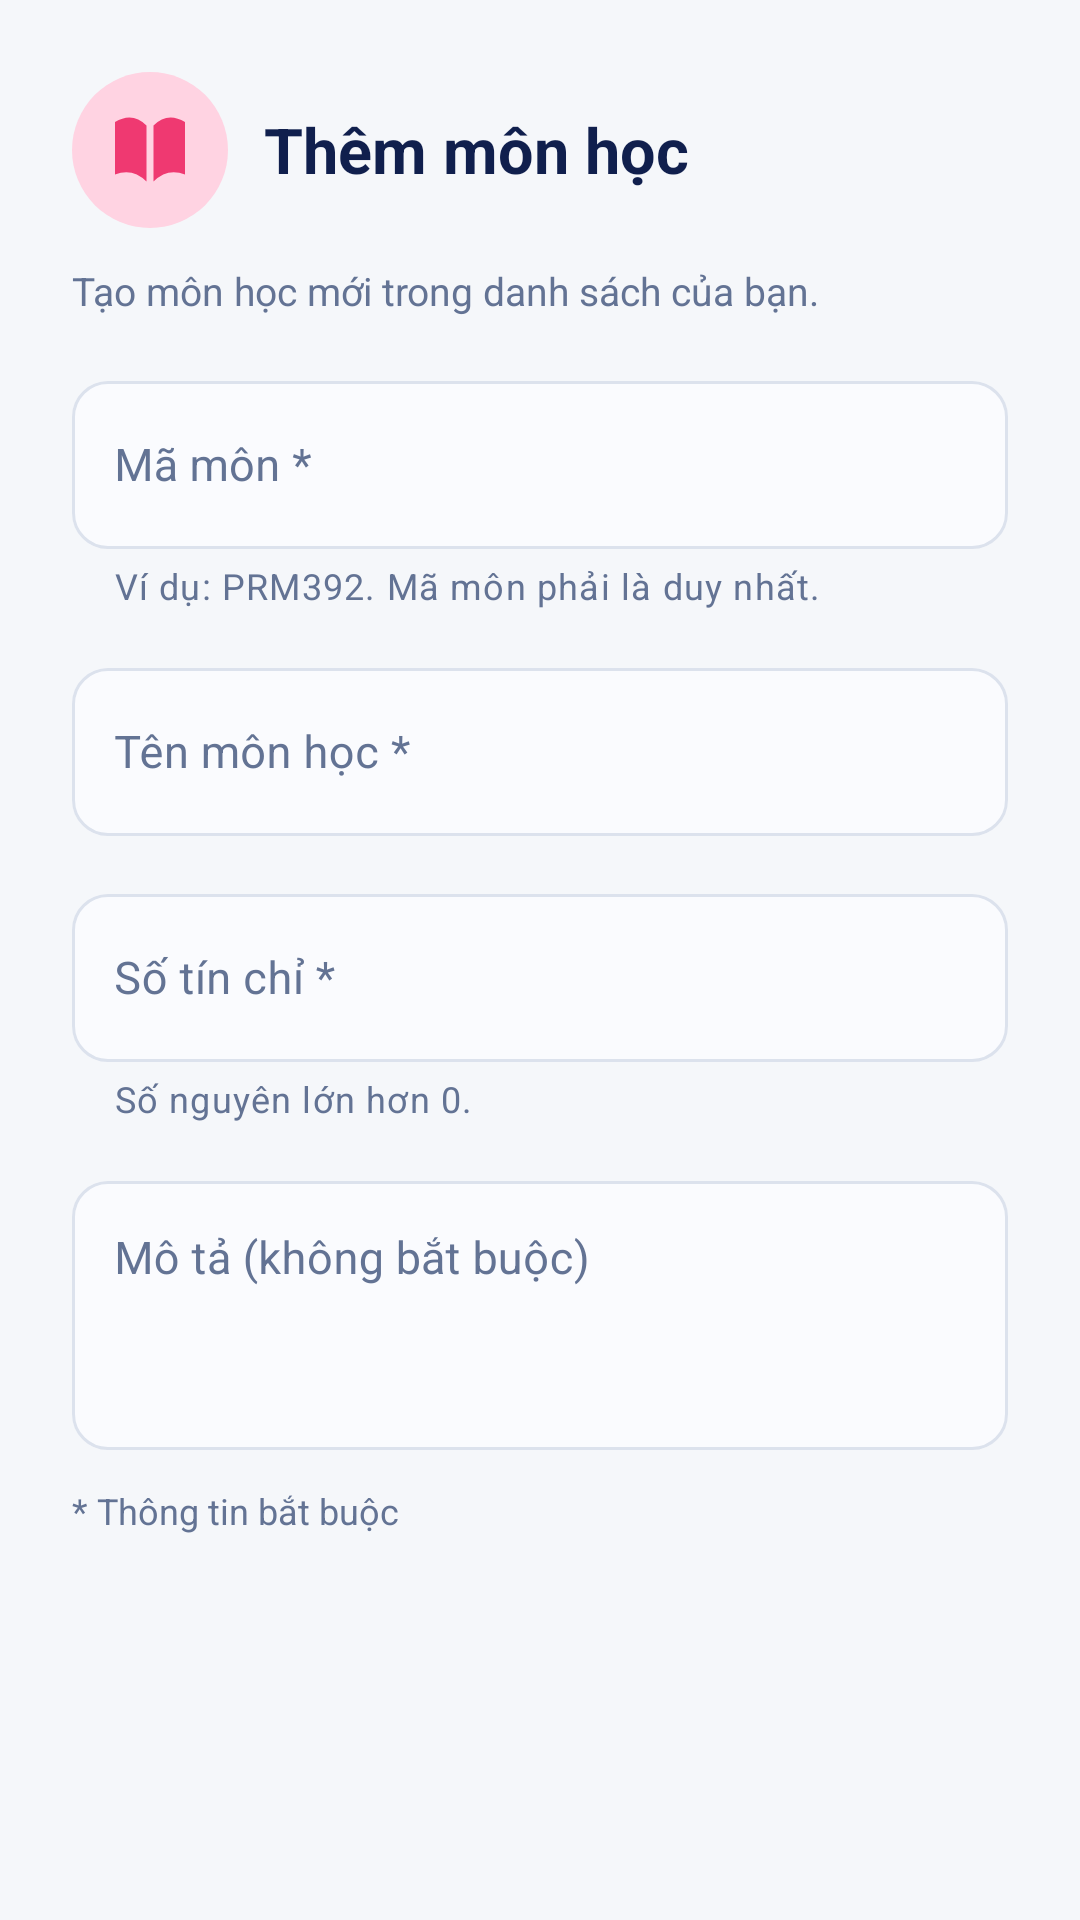

Icon click points for this 1080 × 1920 phone screenshot, format (x,y):
subject book: (150,150)
